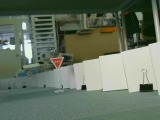stop: (48, 56, 66, 70)
